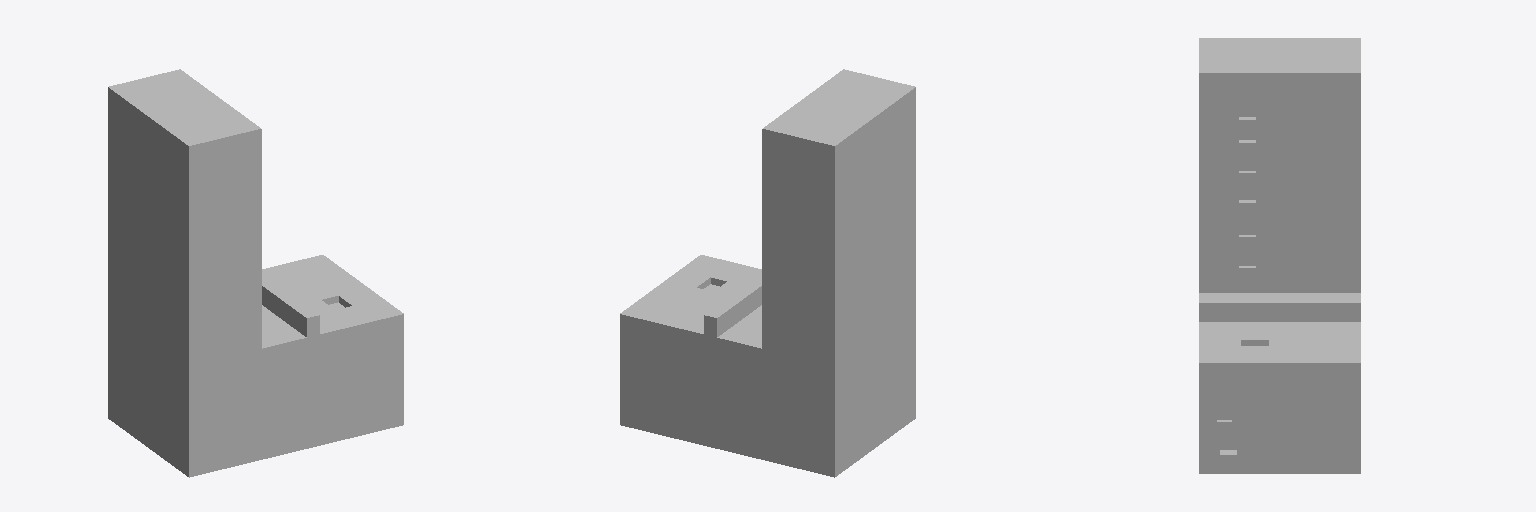
File: hlm1.obj
3 views of the same model, side by side, from view 1: azimuth 30°, elevation 25°; view 2: azimuth 150°, elevation 25°; view 3: azimuth 270°, elevation 25° (orthographic).
Bounding box in the file's own units: 702 × 1032 × 459.